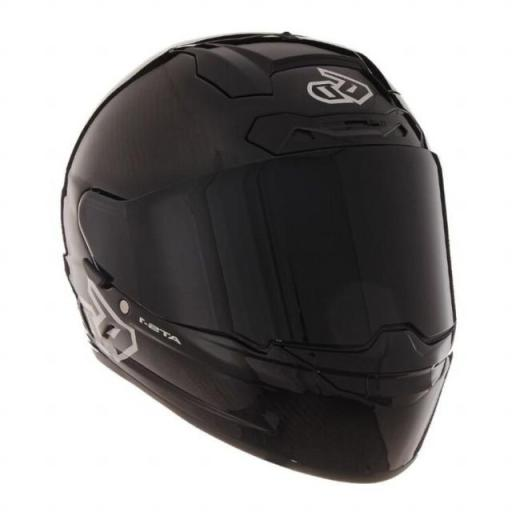Helmet: (60, 36, 466, 491)
